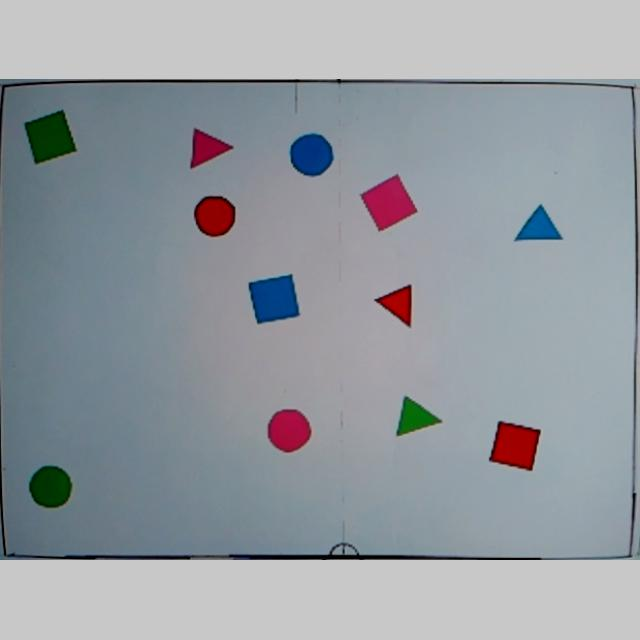blueCircle: (290, 132, 334, 180)
blueSquare: (245, 272, 301, 328)
blueTriangle: (513, 206, 565, 244)
greenCircle: (26, 466, 74, 509)
greenSquare: (22, 110, 78, 167)
greenTriangle: (392, 396, 446, 440)
pinkCircle: (266, 408, 312, 456)
pinkSquare: (356, 172, 418, 235)
pinkTriangle: (188, 126, 236, 172)
redCircle: (192, 194, 240, 240)
redSquare: (485, 421, 543, 475)
redTriangle: (372, 282, 418, 334)
